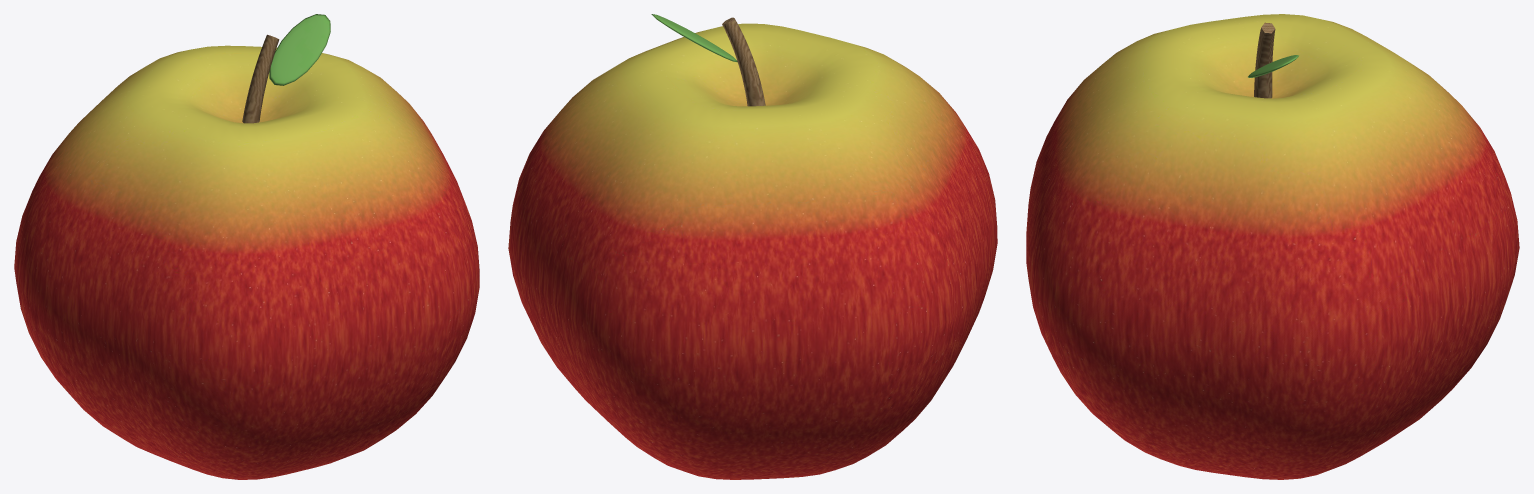
File: apple.glb
3 renders of one model, left to right at view 1: azimuth 30°, elevation 25°; view 2: azimuth 150°, elevation 25°; view 3: azimuth 270°, elevation 25°, orthographic. The views are drawn at different scales.
Parts seen in each view (by area): view 1: apple; view 2: apple; view 3: apple.
Part boxes in pixels (box(x1,y1,x2,y2)): apple: box(14, 14, 479, 479); apple: box(508, 14, 997, 479); apple: box(1026, 14, 1519, 479).
Bounding box in the file's own units: 4.88 × 4.63 × 4.8.
Materials: 1 (1 with a texture image).
